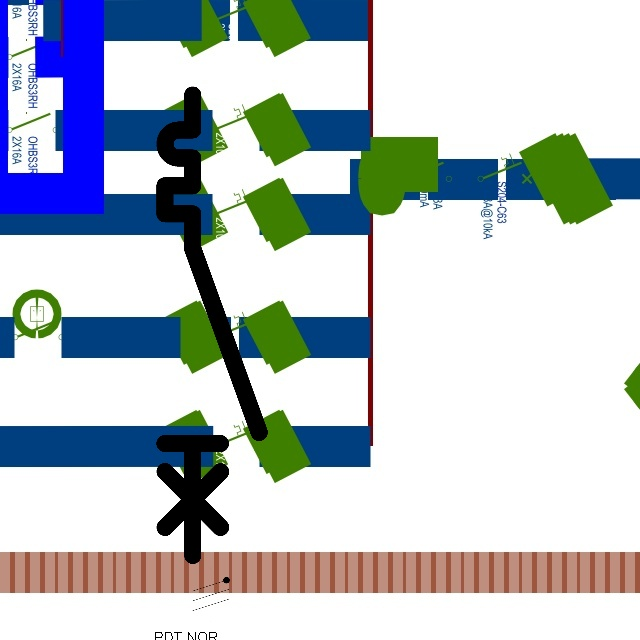interruptor_termomagnetico: (153, 83, 271, 567)
